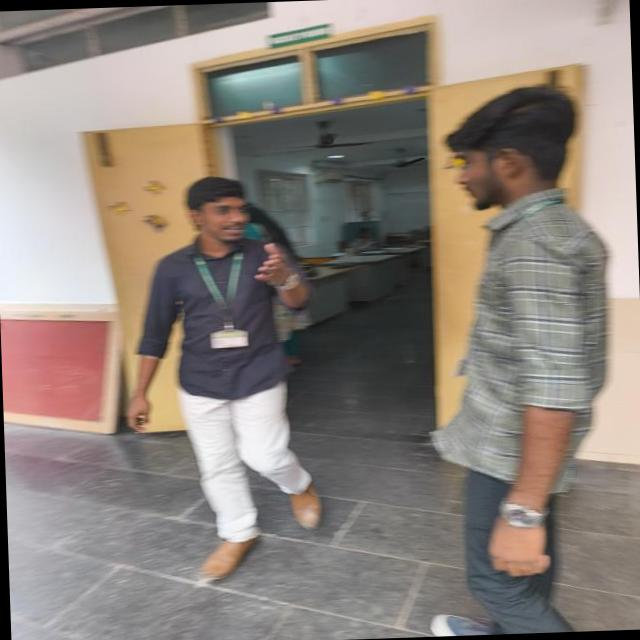id_card: (200, 235, 250, 358)
